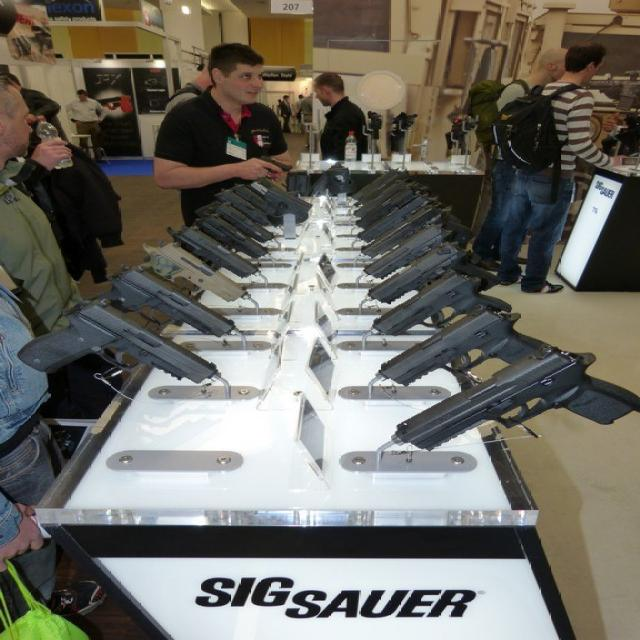firearm: (444, 118, 480, 156), (388, 111, 419, 153), (363, 110, 383, 141)
pistol: (390, 343, 640, 452), (16, 296, 224, 387), (373, 304, 552, 387), (101, 266, 239, 340), (368, 268, 513, 338), (363, 241, 502, 305), (135, 238, 250, 304), (359, 203, 475, 259), (162, 225, 262, 279), (359, 223, 454, 279), (188, 210, 269, 260), (355, 195, 430, 244), (194, 201, 277, 244), (352, 175, 416, 220), (214, 188, 281, 230), (355, 189, 421, 230), (353, 169, 411, 208), (351, 167, 402, 202), (257, 155, 292, 174)
